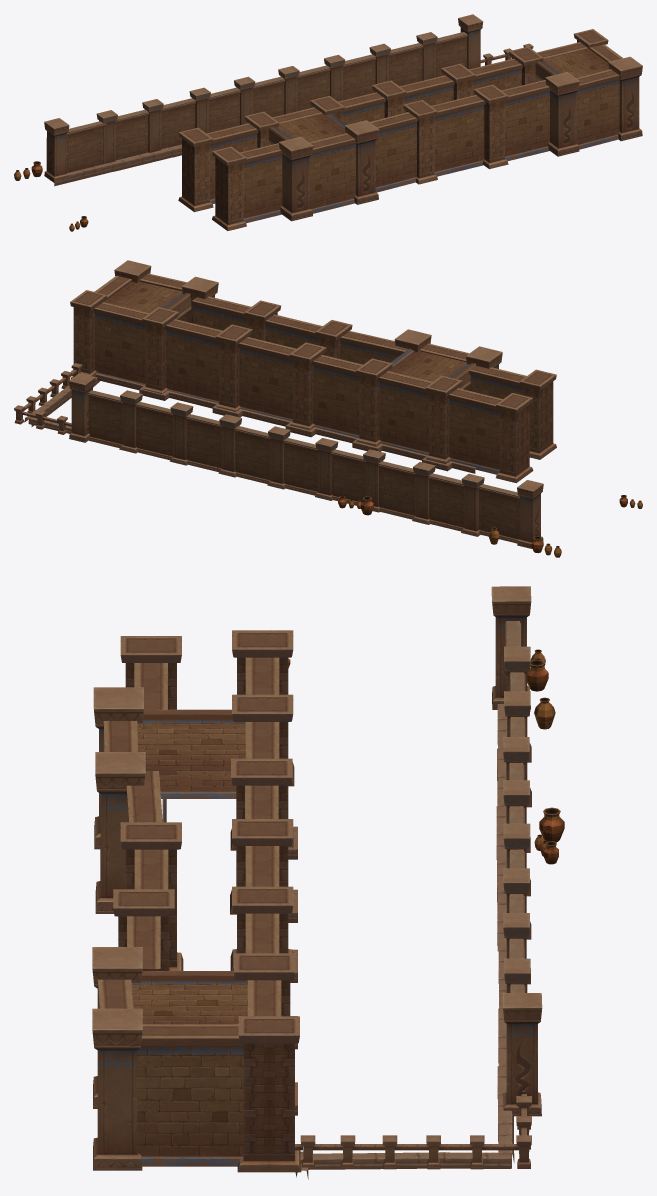
The model's file is Area_08_16.fbx.
The picture shows the model from 3 angles, top to bottom: view 1: azimuth 30°, elevation 25°; view 2: azimuth 150°, elevation 25°; view 3: azimuth 270°, elevation 25°; orthographic projection. The views are drawn at different scales.
Visible parts, largest first — view 1: Area_08_16; view 2: Area_08_16; view 3: Area_08_16.
Boxes of the visible parts, x1,y1,x2,y2 form: Area_08_16: (14,14,642,231); Area_08_16: (14,260,642,557); Area_08_16: (92,586,564,1179).
Bounding box in the file's own units: 6156 × 845 × 2376.
